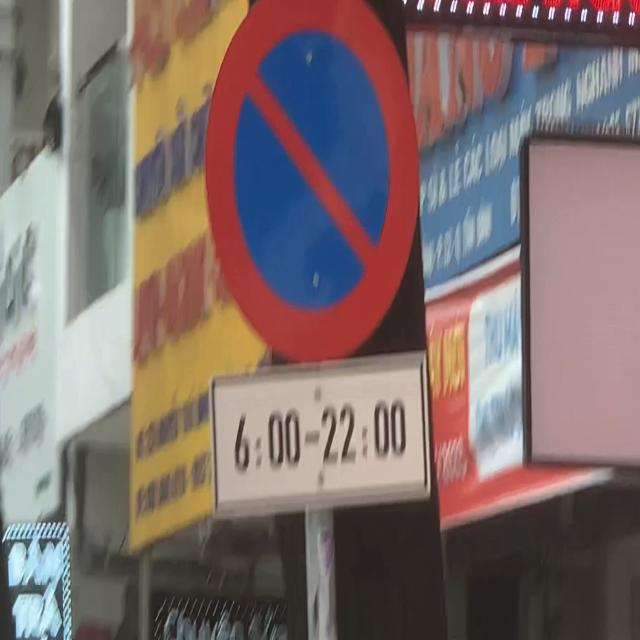Cam do: (204, 0, 419, 362)
